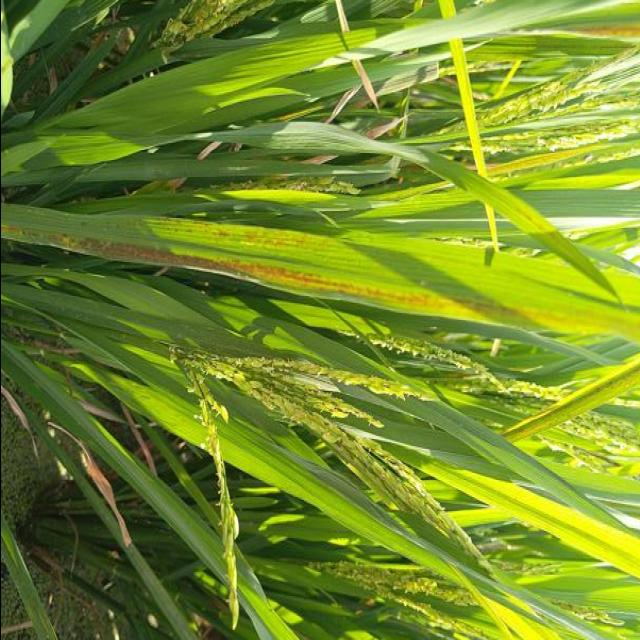Leaf Blight: (0, 225, 579, 333), (153, 218, 308, 256), (524, 24, 640, 44)
